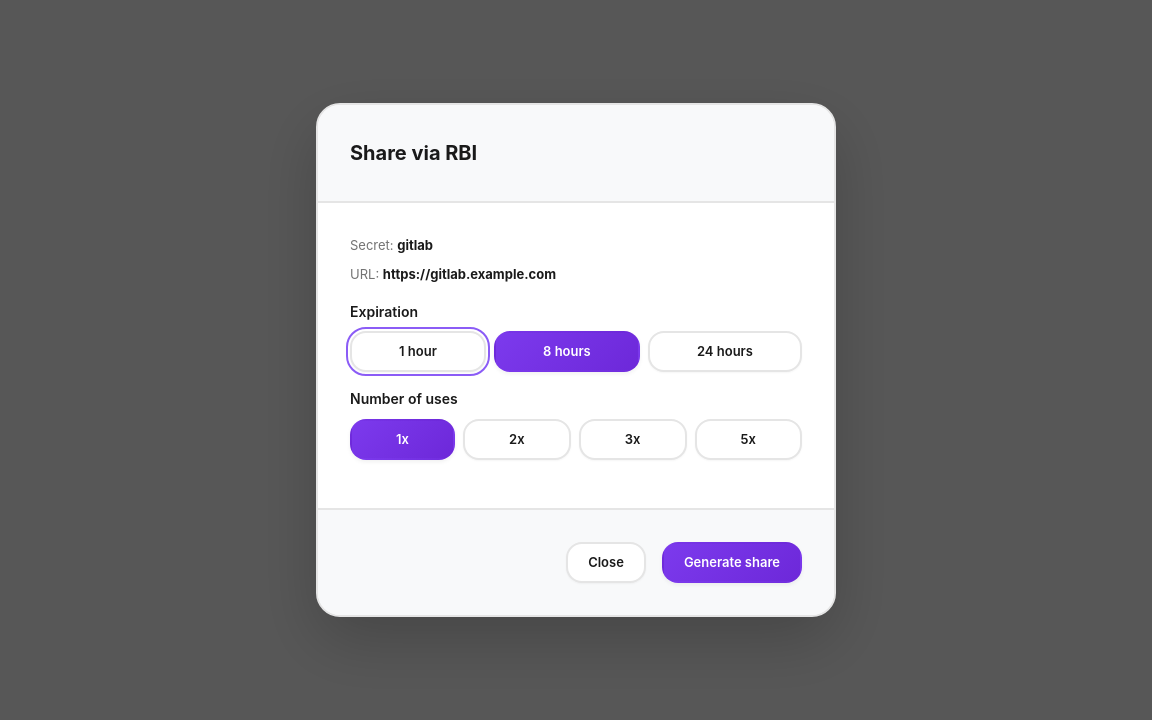
Test: DOCS-17 — shareId contrôlé à l'émission › compatibilité : espaces de bord retirés (le destinataire les retirait déjà), ID affiché sans eux
Click the button "Generate share": {"x": 732, "y": 562} [662,542,802,583]
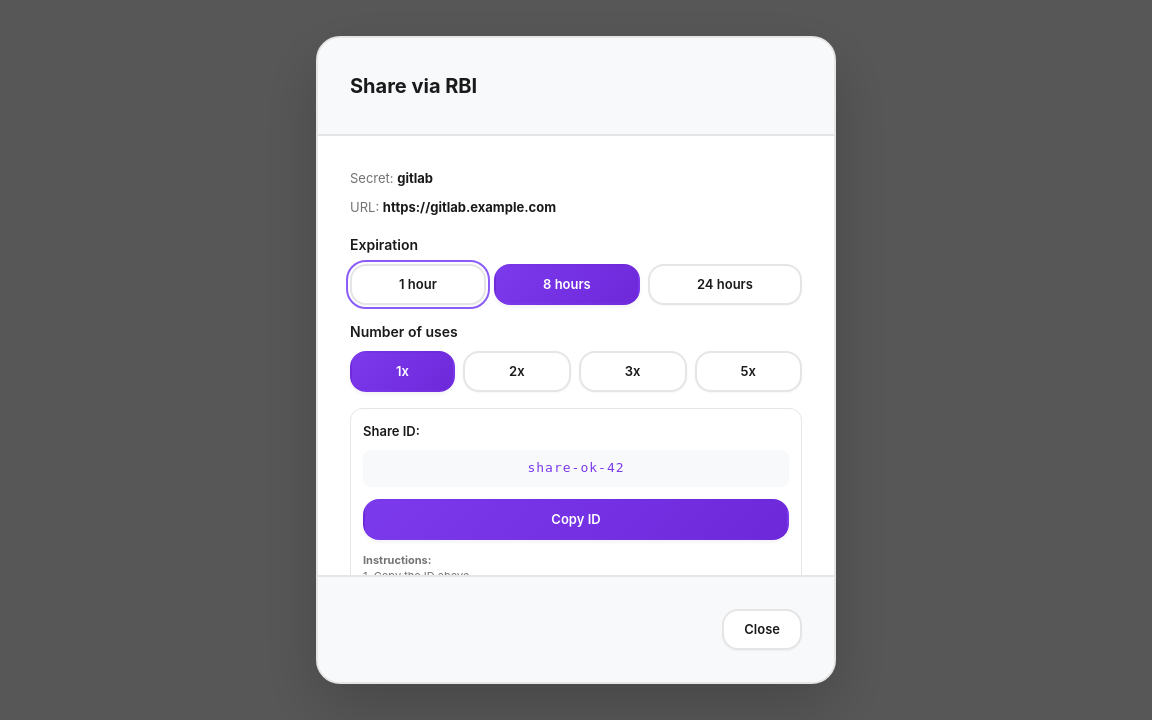
Expected: the text "share-ok-42" is shown, [363,450,789,487]
